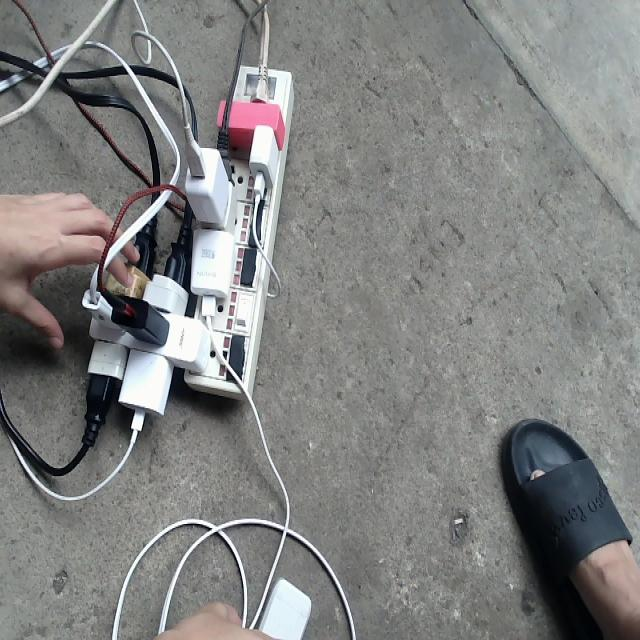-: (84, 64, 294, 403)
